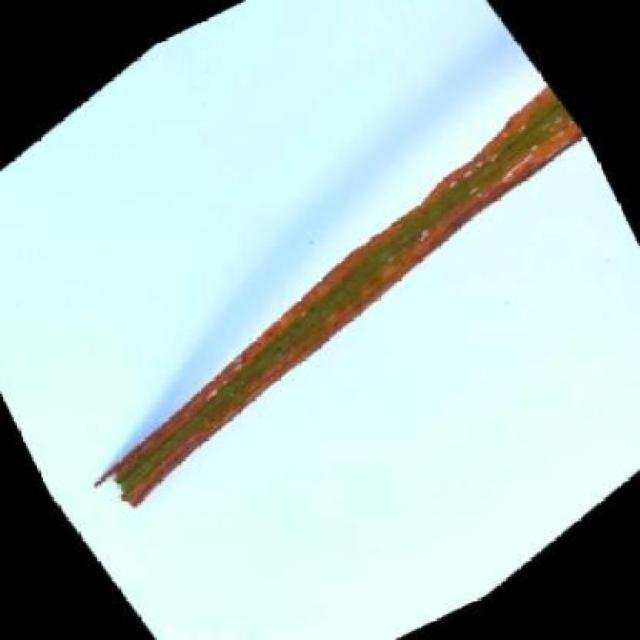Rice False Smut: (26, 82, 640, 522)
